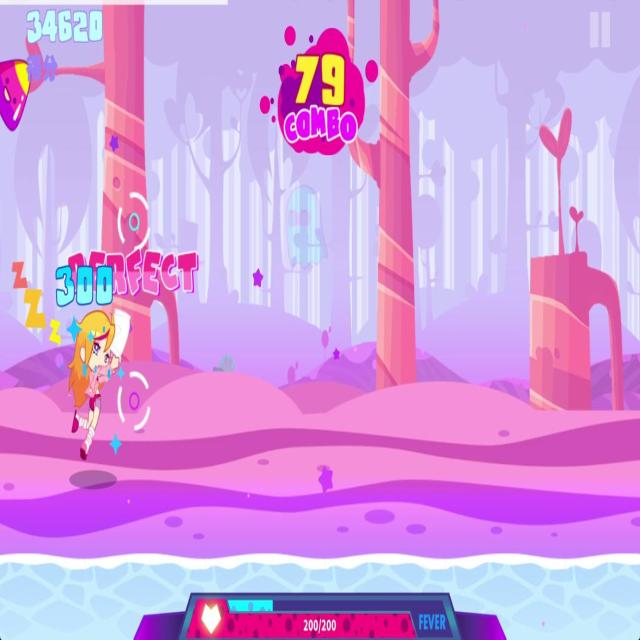gui: (282, 178, 331, 274)
jian: (0, 51, 33, 136)
